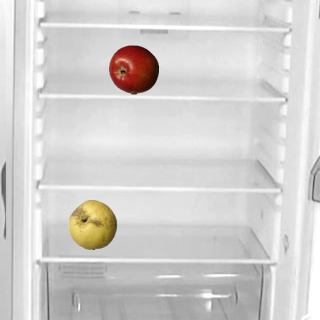Apple Braeburn: (108, 44, 158, 94)
Apple Golden 1: (67, 199, 117, 249)
